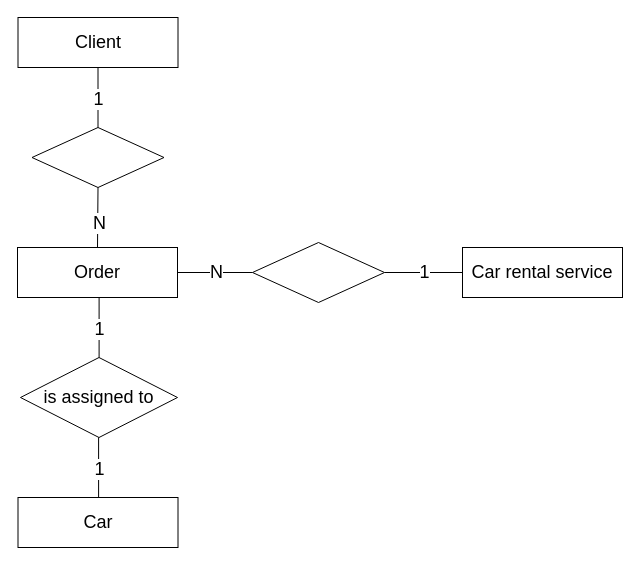
Some shapes in this 640 by 565 pixel diagram are drawn without their labels. The shapes that lost their labels are listed below. From the top down, each one's centre as x and y in pixels, then its label:
pixel 97 157: Creates
pixel 318 272: Accepts
